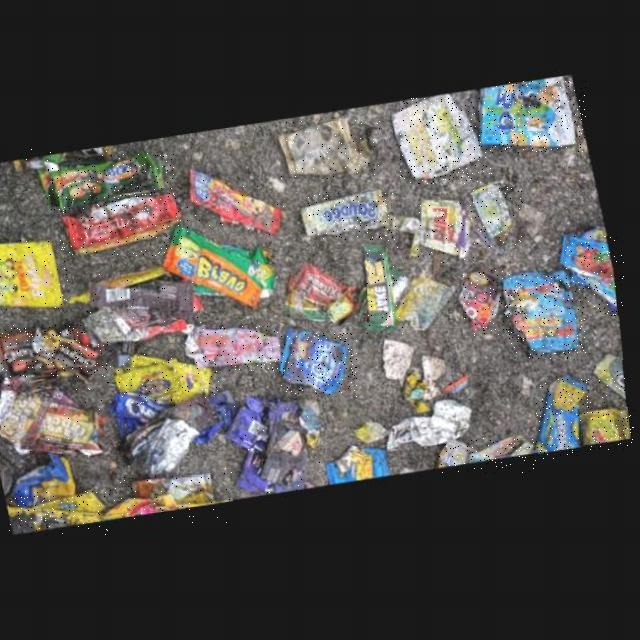wrapper: (213, 394, 327, 499), (2, 377, 107, 459), (86, 269, 201, 343), (401, 98, 492, 184), (47, 153, 176, 212), (70, 194, 189, 255), (490, 81, 586, 152), (0, 325, 112, 383), (509, 274, 586, 358), (196, 170, 293, 235), (101, 476, 233, 523), (287, 120, 380, 178), (117, 354, 219, 406), (0, 240, 73, 309), (282, 333, 357, 398), (564, 236, 624, 315), (9, 491, 111, 536), (307, 192, 397, 240), (537, 379, 591, 458), (9, 455, 88, 509), (191, 326, 287, 370), (417, 202, 478, 263), (440, 438, 538, 472), (326, 442, 395, 488), (368, 247, 404, 335), (463, 270, 510, 336), (474, 187, 523, 249), (20, 148, 125, 172), (582, 410, 634, 450), (599, 360, 631, 406)
